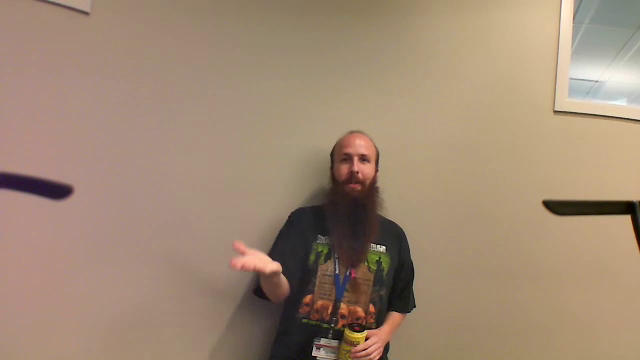land: (226, 235, 287, 281)
